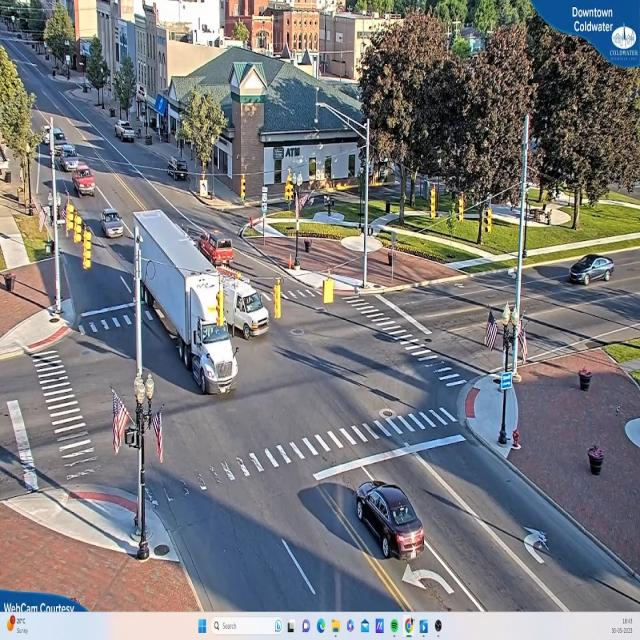car: (357, 482, 428, 561), (569, 254, 614, 285), (98, 208, 126, 240), (73, 162, 97, 194), (117, 122, 137, 144)
truck: (178, 263, 240, 406), (222, 272, 270, 334)
